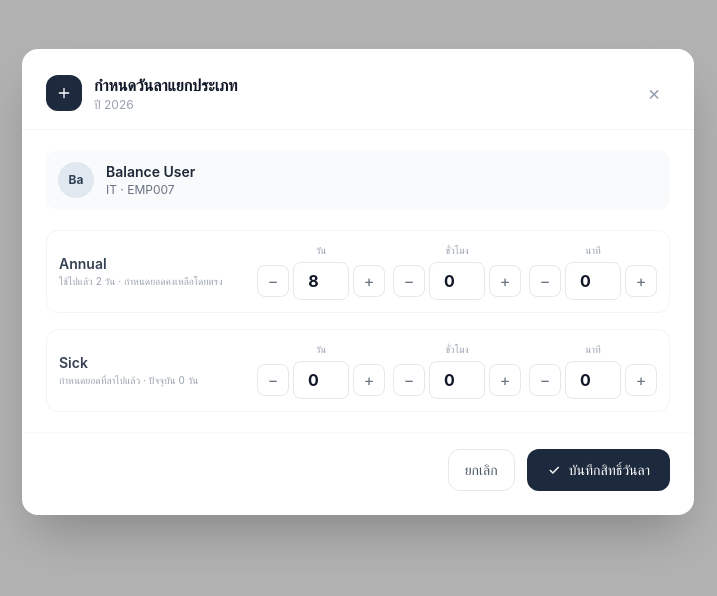
Test case: AddLeaveBalanceModal › keeps the modal open and shows the API error when save fails
Click the button "บันทึกสิทธิ์วันลา". click: (598, 470)
box: [527, 449, 670, 491]
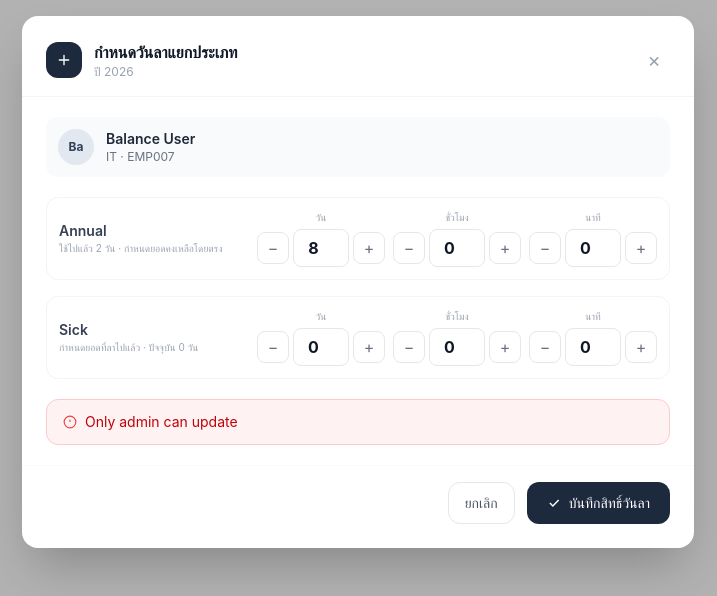
Expected: the text "Only admin can update" is shown, [85, 412, 238, 432]
